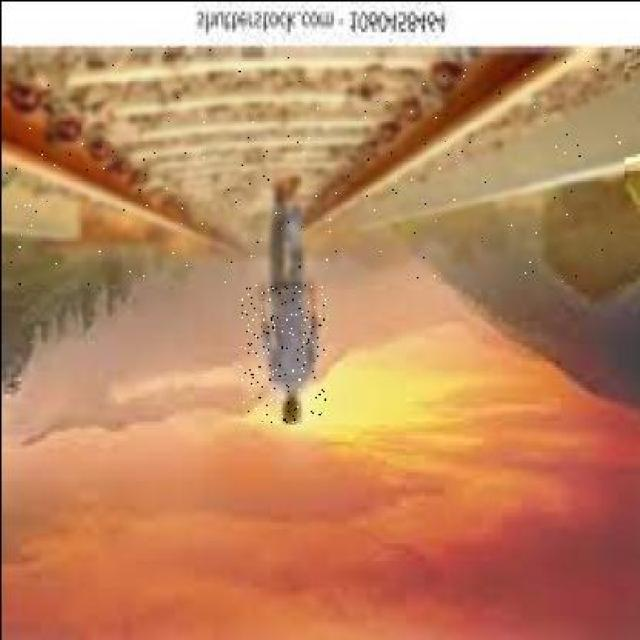rail: (2, 49, 624, 283)
